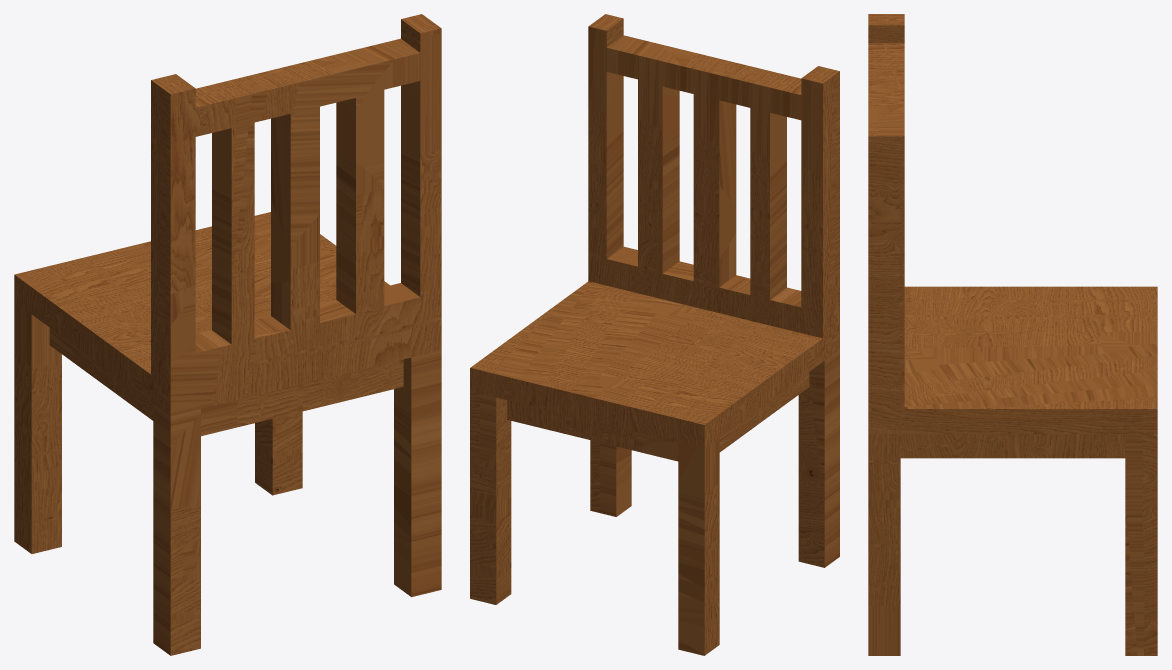
File: ASM - PBR Metallic Roughness.gltf
3 views of the same model, side by side, from view 1: azimuth 30°, elevation 25°; view 2: azimuth 150°, elevation 25°; view 3: azimuth 270°, elevation 25° (orthographic). The views are drawn at different scales.
Parts seen in each view (by area): view 1: Box001; view 2: Box001; view 3: Box001.
Part boxes in pixels (left/top/right/bottom): Box001: left=14, top=14, right=441, bottom=655; Box001: left=470, top=14, right=839, bottom=655; Box001: left=868, top=14, right=1157, bottom=655.
Bounding box in the file's own units: 0.46 × 0.9111 × 0.46.
